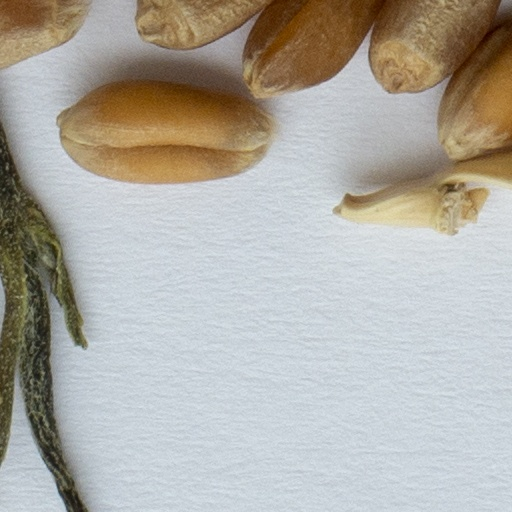Peel-poly: (0, 120, 89, 511), (330, 145, 511, 235)
Wheat-grain-damaged-poly: (0, 0, 91, 72)
Wheat-grain-poly: (52, 75, 277, 189)
